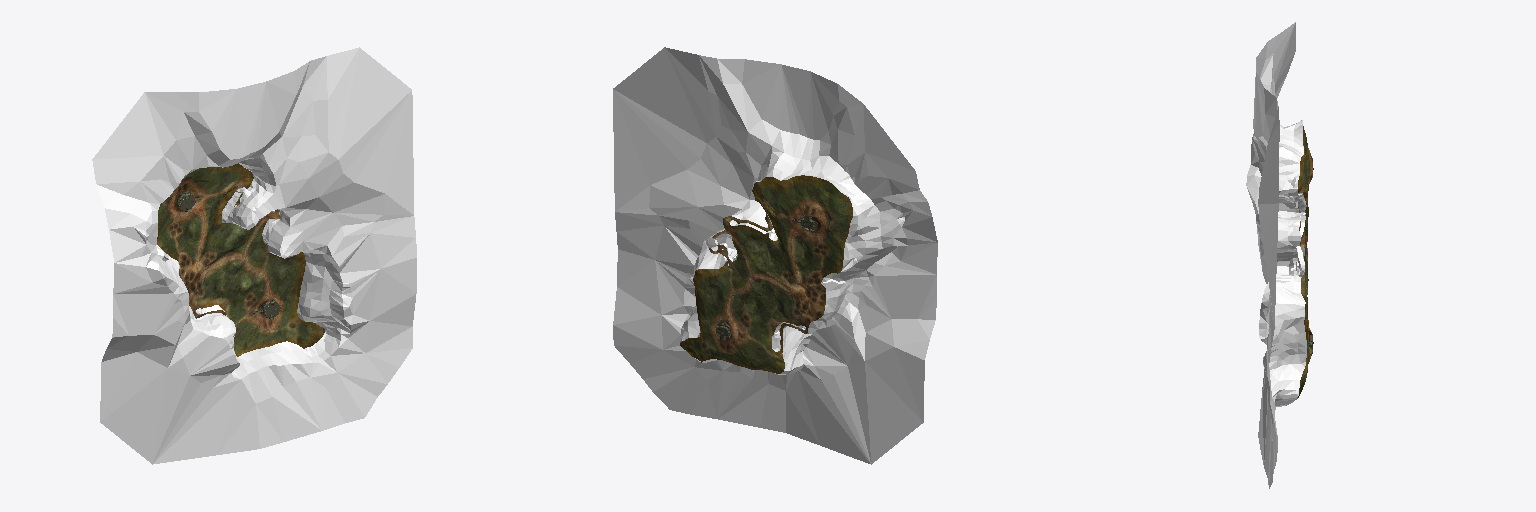
3 renders of one model, left to right at view 1: azimuth 30°, elevation 25°; view 2: azimuth 150°, elevation 25°; view 3: azimuth 270°, elevation 25°, orthographic.
Visible parts, largest first — view 1: 0_95, 0_93, 0_102, 0_141, 0_104, 0_128, 0_119, 0_77, 0_152, 0_100, 0_126, 0_78 (+7 smaller); view 2: 0_95, 0_93, 0_102, 0_141, 0_119, 0_104, 0_152, 0_100, 0_182, 0_181, 0_77, 0_16 (+7 smaller); view 3: 0_95, 0_93, 0_128, 0_76, 0_140, 0_168, 0_78.
Boxes of the visible parts, <box> form: 0_95: <box>92,47,416,464</box>; 0_93: <box>142,62,350,378</box>; 0_102: <box>210,246,249,314</box>; 0_141: <box>248,244,288,303</box>; 0_104: <box>162,220,210,264</box>; 0_128: <box>300,250,335,298</box>; 0_119: <box>179,256,213,318</box>; 0_77: <box>209,170,253,218</box>; 0_152: <box>161,176,209,231</box>; 0_100: <box>209,218,249,255</box>; 0_126: <box>290,323,345,362</box>; 0_78: <box>222,172,270,225</box>; 0_95: <box>613,47,937,464</box>; 0_93: <box>681,59,907,370</box>; 0_102: <box>747,266,790,329</box>; 0_141: <box>709,257,748,324</box>; 0_119: <box>786,275,825,333</box>; 0_104: <box>786,240,836,281</box>; 0_152: <box>786,196,836,250</box>; 0_100: <box>748,222,786,274</box>; 0_182: <box>787,175,838,206</box>; 0_181: <box>844,200,873,251</box>; 0_77: <box>752,184,786,239</box>; 0_16: <box>747,325,783,359</box>; 0_95: <box>1251,22,1295,488</box>; 0_93: <box>1246,54,1276,401</box>; 0_128: <box>1275,282,1306,351</box>; 0_76: <box>1275,344,1306,388</box>; 0_140: <box>1277,218,1304,267</box>; 0_168: <box>1279,141,1303,181</box>; 0_78: <box>1278,179,1306,213</box>.
Bounding box in the file's own units: 205 × 230 × 38.24.
18 materials, 13 textured.